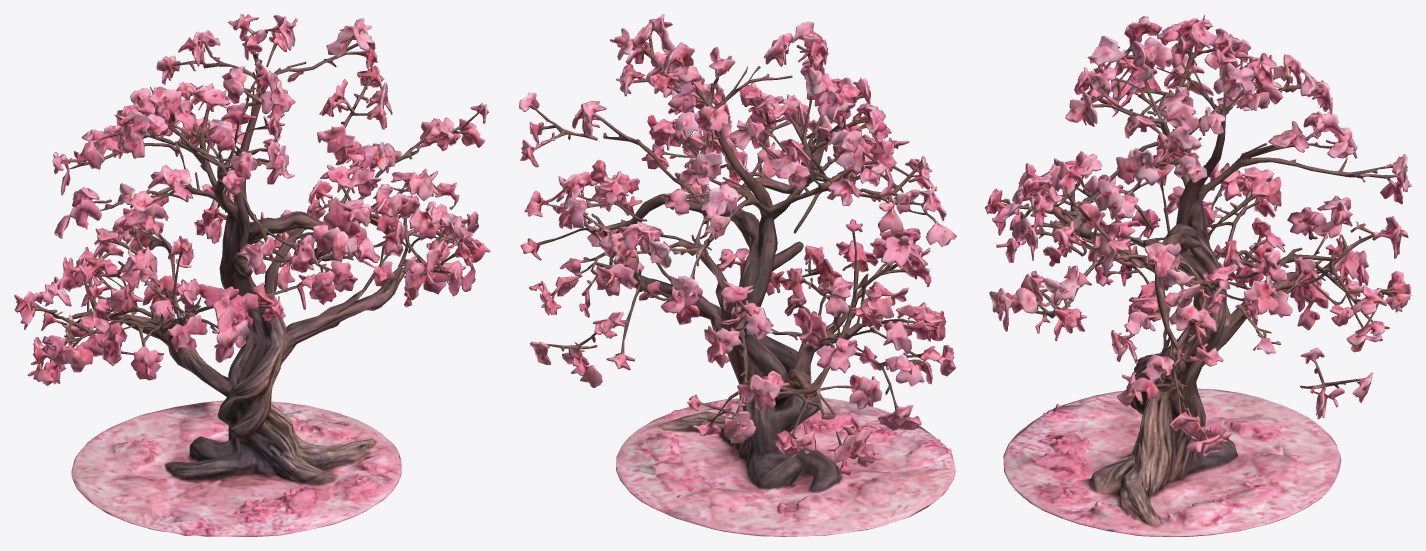
Rendered from peach_oldtree.glb.
3 views of the same model, side by side, from view 1: azimuth 30°, elevation 25°; view 2: azimuth 150°, elevation 25°; view 3: azimuth 270°, elevation 25° (orthographic). The views are drawn at different scales.
Parts seen in each view (by area): view 1: tripo_node_ef3802c2-bf72-4096-acd9-ecb0f7a9d7b1; view 2: tripo_node_ef3802c2-bf72-4096-acd9-ecb0f7a9d7b1; view 3: tripo_node_ef3802c2-bf72-4096-acd9-ecb0f7a9d7b1.
Boxes of the visible parts, x1=… form: tripo_node_ef3802c2-bf72-4096-acd9-ecb0f7a9d7b1: x1=14, y1=14, x2=490, y2=536; tripo_node_ef3802c2-bf72-4096-acd9-ecb0f7a9d7b1: x1=519, y1=14, x2=956, y2=536; tripo_node_ef3802c2-bf72-4096-acd9-ecb0f7a9d7b1: x1=985, y1=14, x2=1411, y2=536.
Size of the model in its own units: 0.9803 by 0.8872 by 0.7802.
Materials: 1 (1 with a texture image).
